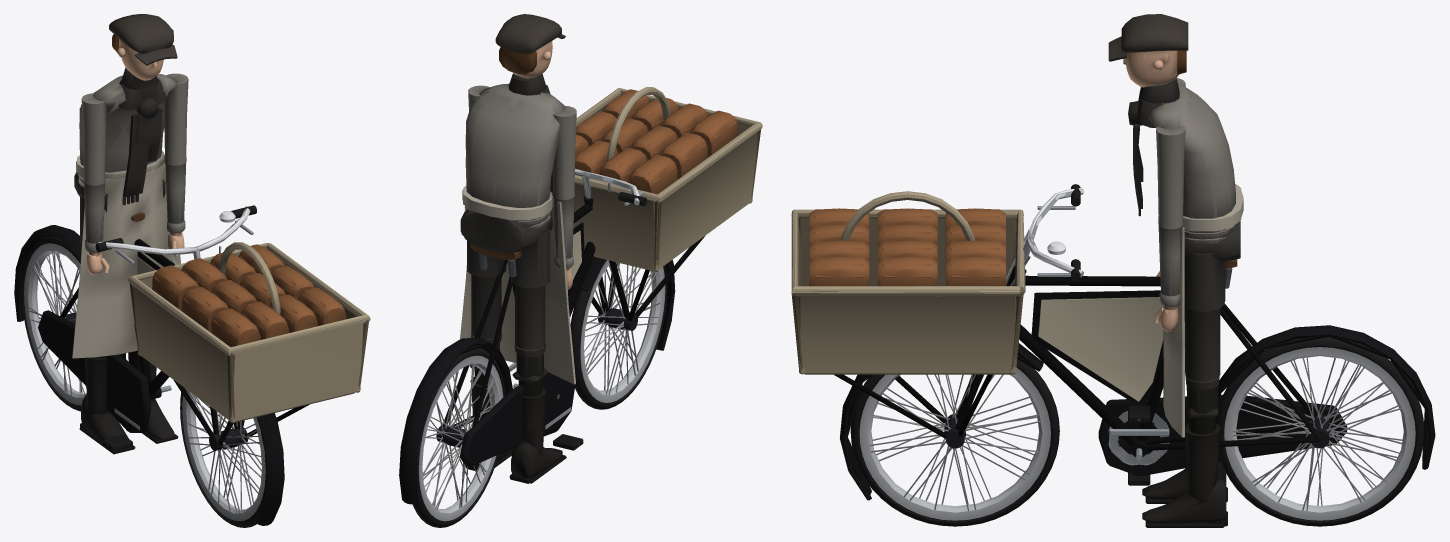
Rendered from bicycle.glb.
3 renders of one model, left to right at view 1: azimuth 30°, elevation 25°; view 2: azimuth 150°, elevation 25°; view 3: azimuth 270°, elevation 25°, orthographic. The views are drawn at different scales.
Visible parts, largest first — view 1: basket (×2), body (×2), boy (×2), wheel_front (×2), apron_long, wheel_rear (×2), apron_hem, steer (×2), head (×2), upperarm_r (×2), upperarm_l, forearm_r (+4 smaller); view 2: basket (×2), boy (×2), body (×2), wheel_front (×2), wheel_rear (×2), head (×2), thigh_r (×2), apron_hem, steer (×2), upperarm_r (×2), shin_r, thigh_l (+5 smaller); view 3: basket (×2), body (×2), wheel_rear (×2), wheel_front (×2), plate, boy (×2), head, steer (×2), thigh_l, shin_l, foot_l (×2), upperarm_l (+4 smaller).
Part boxes in pixels (x1,y1,x2,y2): basket (×2): (128,242,370,422); body (×2): (14,212,309,445); boy (×2): (74,73,177,211); wheel_front (×2): (180,388,268,527); apron_long: (79,163,180,281); wheel_rear (×2): (22,236,86,411); apron_hem: (72,258,180,358); steer (×2): (95,205,284,525); head (×2): (109,14,177,89); upperarm_r (×2): (81,93,106,185); upperarm_l: (164,73,188,165); forearm_r: (84,182,109,274); basket (×2): (550,87,762,271); boy (×2): (460,83,565,253); body (×2): (399,196,704,504); wheel_front (×2): (570,259,667,409); wheel_rear (×2): (413,348,505,527); head (×2): (495,14,565,95); thigh_r (×2): (510,228,550,349); apron_hem: (460,281,575,384); steer (×2): (575,169,675,350); upperarm_r (×2): (552,105,576,199); shin_r: (514,343,546,454); thigh_l: (467,240,505,339); basket (×2): (791,191,1025,374); body (×2): (834,259,1435,476); wheel_rear (×2): (1217,336,1424,526); wheel_front (×2): (850,359,1059,526); plate: (1031,290,1163,405); boy (×2): (1128,84,1243,262); head: (1108,14,1188,103); steer (×2): (839,184,1083,500); thigh_l: (1184,252,1224,381); shin_l: (1185,376,1220,502); foot_l (×2): (1142,478,1227,527); upperarm_l: (1156,126,1185,229).
Size of the model in its own units: 0.66 by 1.76 by 2.03.
